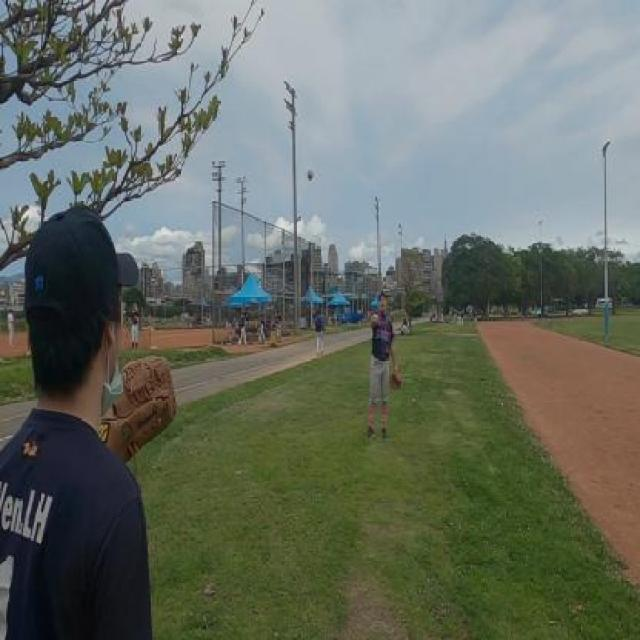baseball: (307, 168, 313, 181)
